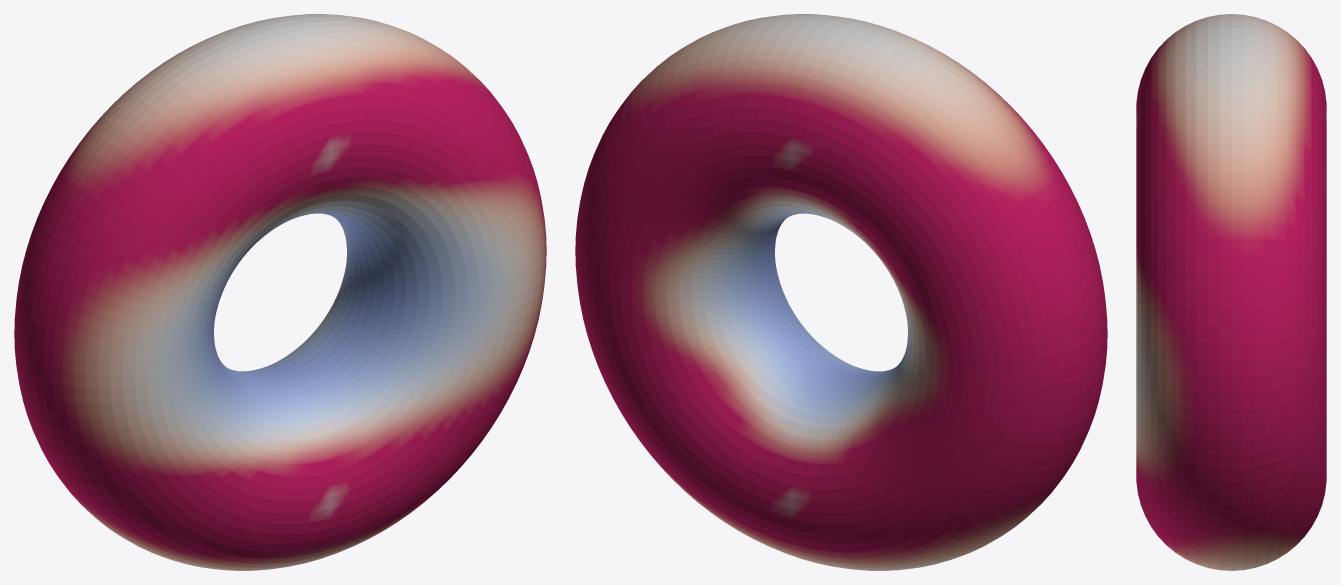
The picture shows the model from 3 angles, left to right: view 1: azimuth 30°, elevation 25°; view 2: azimuth 150°, elevation 25°; view 3: azimuth 270°, elevation 25°; orthographic projection. The views are drawn at different scales.
Parts seen in each view (by area): view 1: world; view 2: world; view 3: world.
Boxes of the visible parts, bbox=[...] form: world: bbox=[14, 14, 546, 570]; world: bbox=[575, 14, 1107, 570]; world: bbox=[1136, 14, 1326, 570].
Bounding box in the file's own units: 25.33 × 25.33 × 8.65.
